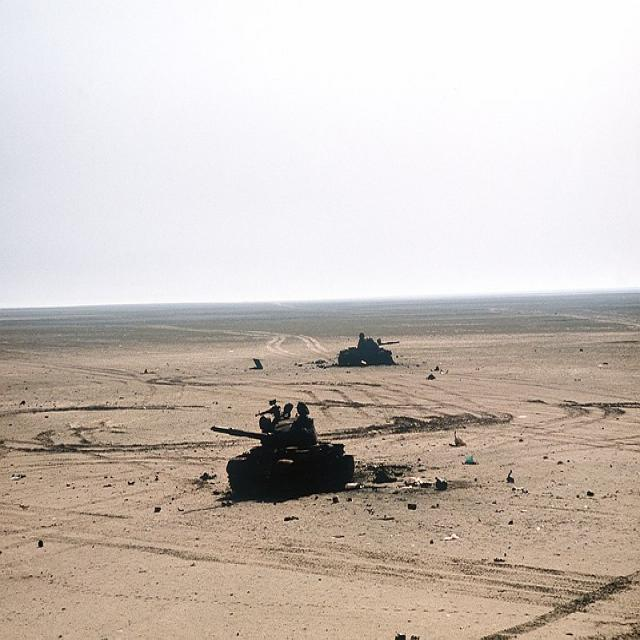Tanks: (208, 407, 358, 504), (336, 332, 402, 372)
